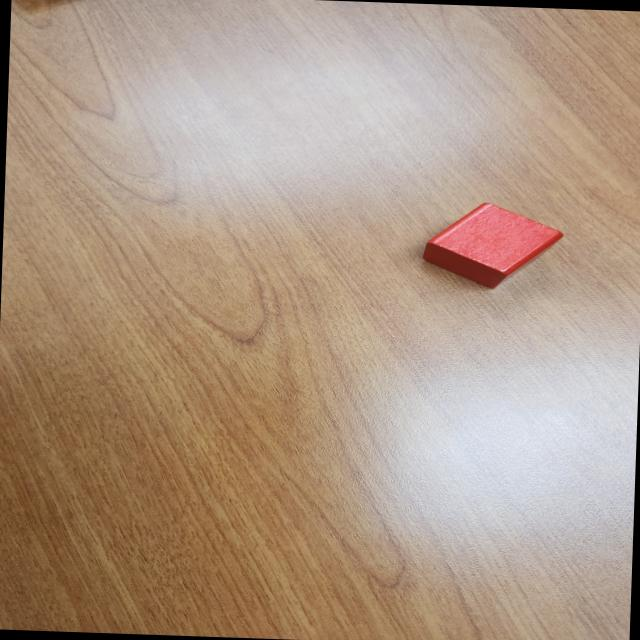red: (421, 200, 568, 291)
